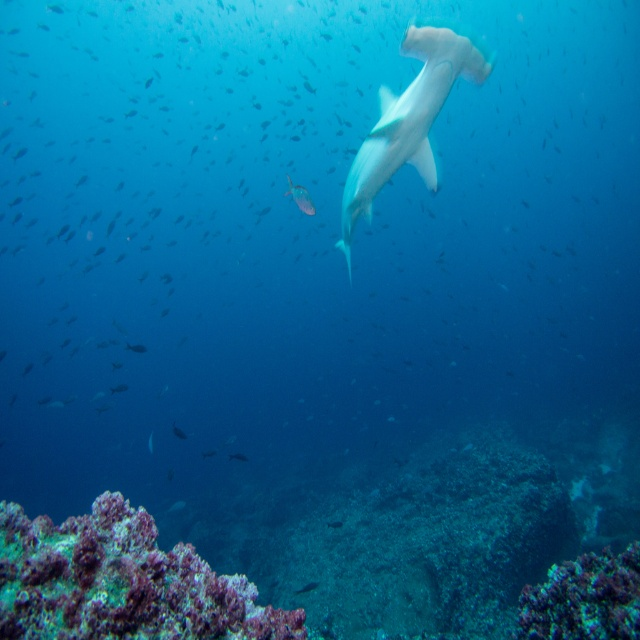Shark: (323, 5, 493, 262)
